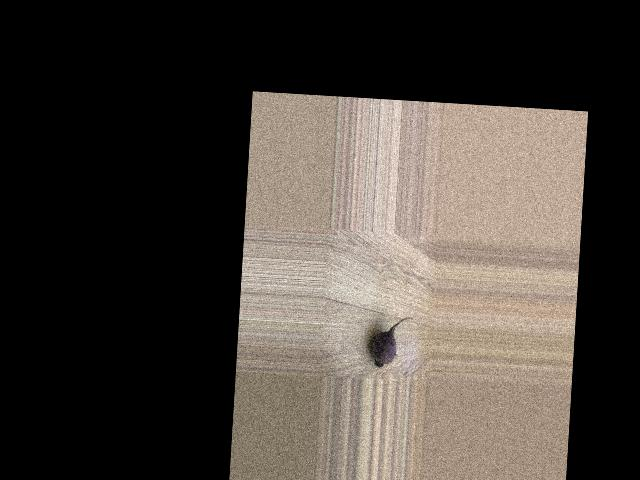beet: (371, 313, 413, 368)
